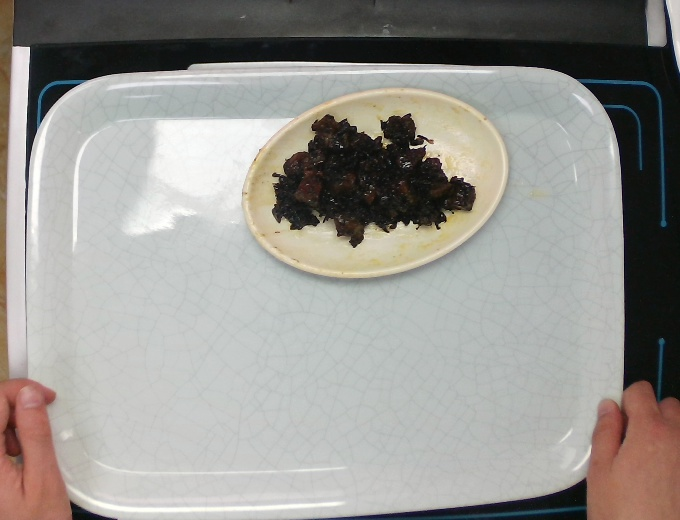JYsf-Tuo_Yuan_Wan: (238, 82, 513, 282)
